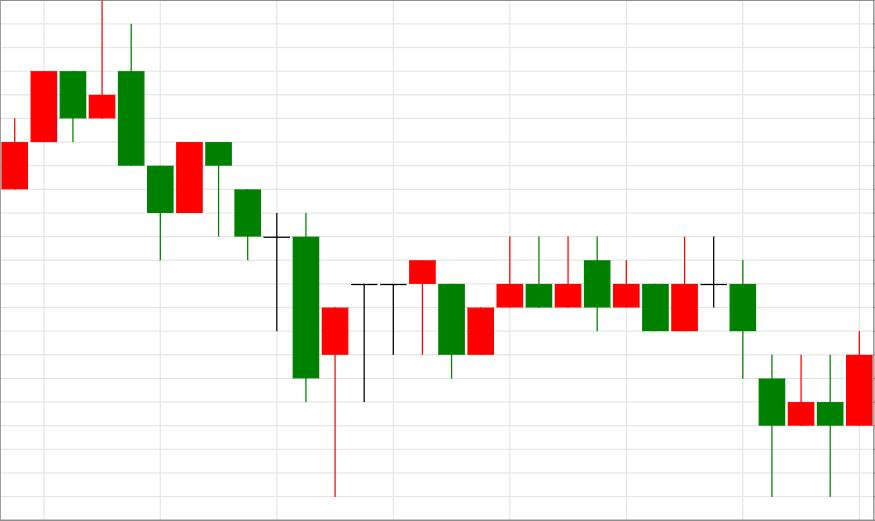hammer_rise: (118, 23, 348, 497)
